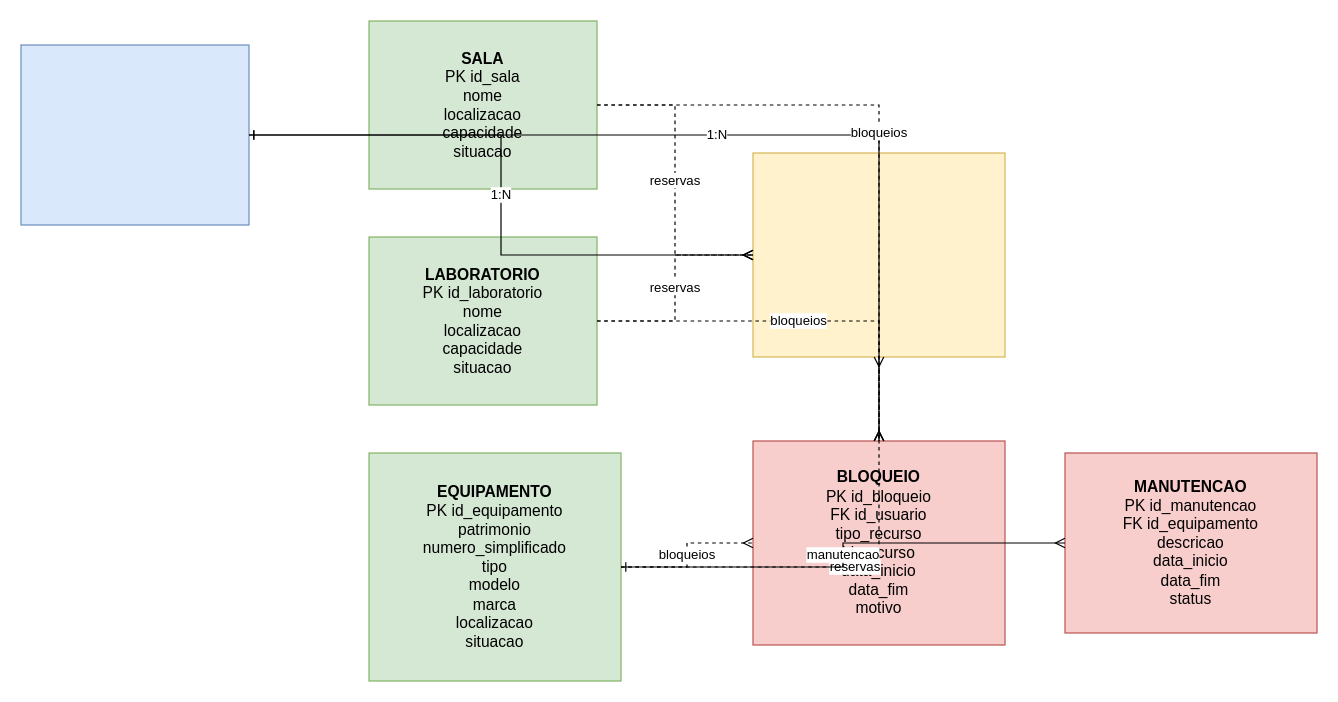
This 1338x702 diagram has some shape labels left out. The shapes that lost their labels are listed below. From the top down, each one's box as (x1, y1, x2, y2) in pixels, then its label:
(20, 44, 249, 225): USUARIO PK id_usuario nome email senha perfil
(752, 152, 1005, 357): RESERVA PK id_reserva FK id_usuario data hora_inicio hora_fim finalidade status
